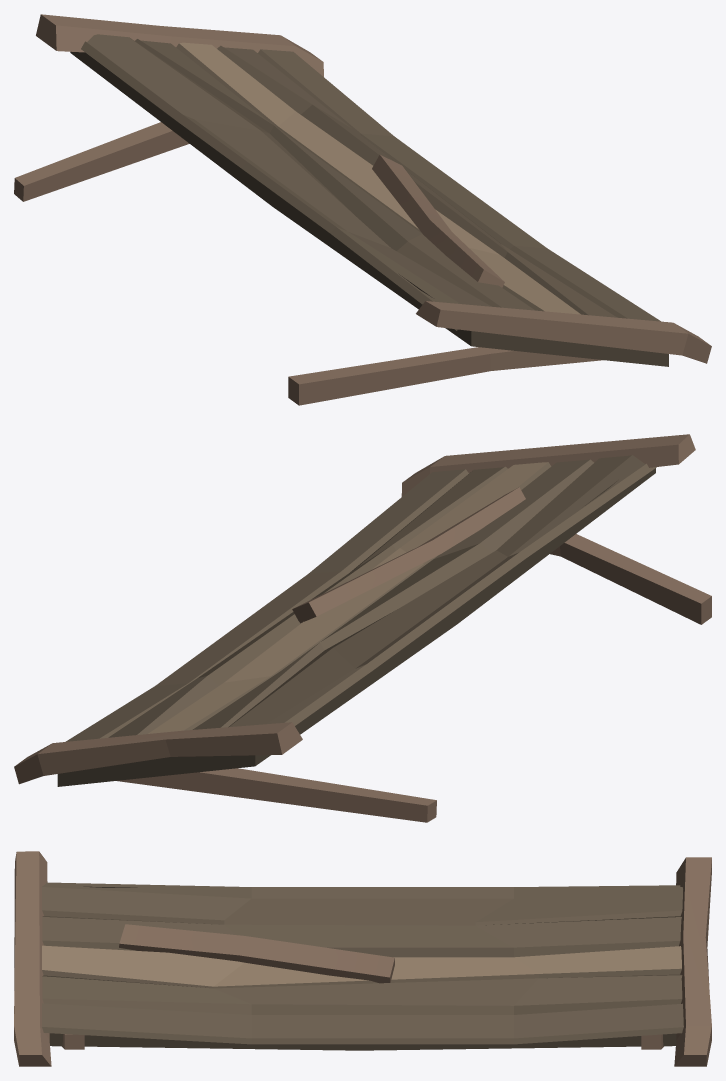
Rendered from SM_Bld_Shanty_Roof_05.glb.
3 views of the same model, one above another, from view 1: azimuth 30°, elevation 25°; view 2: azimuth 150°, elevation 25°; view 3: azimuth 270°, elevation 25° (orthographic). The views are drawn at different scales.
Visible parts, largest first — view 1: SM_Bld_Shanty_Roof_05; view 2: SM_Bld_Shanty_Roof_05; view 3: SM_Bld_Shanty_Roof_05.
Boxes of the visible parts, bbox=[...] form: SM_Bld_Shanty_Roof_05: bbox=[14, 14, 711, 405]; SM_Bld_Shanty_Roof_05: bbox=[14, 434, 711, 822]; SM_Bld_Shanty_Roof_05: bbox=[14, 851, 711, 1066].
Bounding box in the file's own units: 0.0271 × 0.00881 × 0.054.
1 material, 1 textured.
